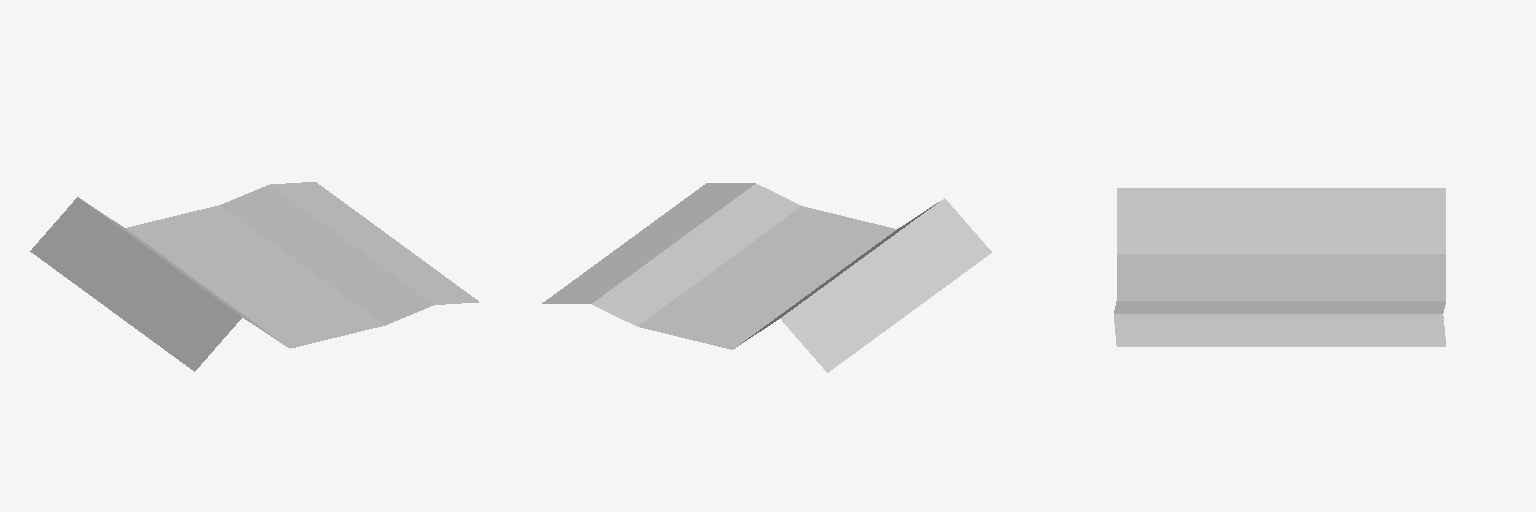
Rendered from terrain.obj.
3 renders of one model, left to right at view 1: azimuth 30°, elevation 25°; view 2: azimuth 150°, elevation 25°; view 3: azimuth 270°, elevation 25°, orthographic.
Visible parts, largest first — view 1: Plane; view 2: Plane; view 3: Plane.
Boxes of the visible parts, x1=… form: Plane: x1=30, y1=182, x2=478, y2=371; Plane: x1=542, y1=183, x2=991, y2=372; Plane: x1=1114, y1=188, x2=1445, y2=346.
Bounding box in the file's own units: 202 × 29 × 204.